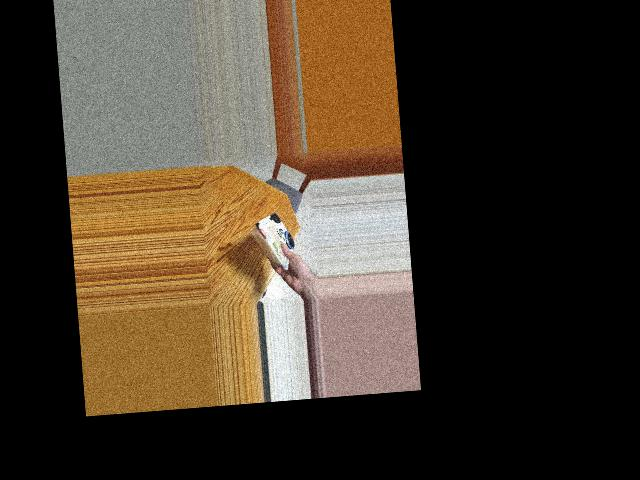cheese: (245, 213, 302, 263)
